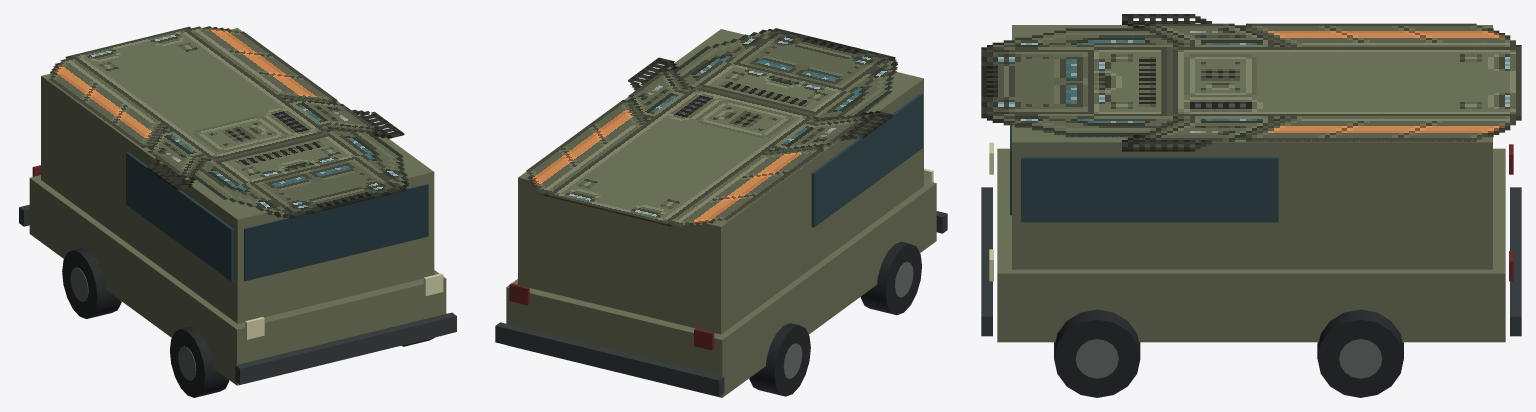
The model's file is CMU3DReduxVehicleSPPVanLogistics.glb.
3 renders of one model, left to right at view 1: azimuth 30°, elevation 25°; view 2: azimuth 150°, elevation 25°; view 3: azimuth 270°, elevation 25°, orthographic. The views are drawn at different scales.
Visible parts, largest first — view 1: source hull roof panel (×3), upper hull, closed lower chassis, cab windscreen, cab side window, front bumper, road tire (×2), wheel hub (×2), front light; view 2: source hull roof panel (×3), upper hull, closed lower chassis, cab side window, rear bumper, road tire (×2), wheel hub (×2); view 3: source hull roof panel (×3), upper hull, closed lower chassis, cab side window, road tire (×2), wheel hub (×2), rear bumper, front bumper.
Boxes of the visible parts, x1,y1,x2,y2 form: source hull roof panel (×3): (49, 26, 408, 218); upper hull: (41, 28, 434, 323); closed lower chassis: (29, 175, 446, 385); cab windscreen: (244, 184, 428, 281); cab side window: (126, 152, 233, 281); front bumper: (235, 312, 456, 384); road tire (×2): (62, 248, 229, 397); wheel hub (×2): (70, 267, 196, 380); front light: (423, 273, 443, 296); source hull roof panel (×3): (526, 28, 897, 227); upper hull: (518, 29, 923, 334); closed lower chassis: (506, 180, 936, 397); cab side window: (811, 93, 922, 227); rear bumper: (495, 322, 724, 396); road tire (×2): (749, 241, 921, 396); wheel hub (×2): (783, 262, 913, 378); source hull roof panel (×3): (981, 14, 1521, 151); upper hull: (1012, 25, 1492, 269); closed lower chassis: (997, 148, 1505, 342); cab side window: (1021, 157, 1278, 222); road tire (×2): (1054, 309, 1403, 397); wheel hub (×2): (1075, 339, 1382, 378); rear bumper: (1510, 187, 1521, 336); front bumper: (981, 187, 992, 336).
Size of the model in its own units: 1.85 by 1.49 by 3.
11 materials, 3 textured.
